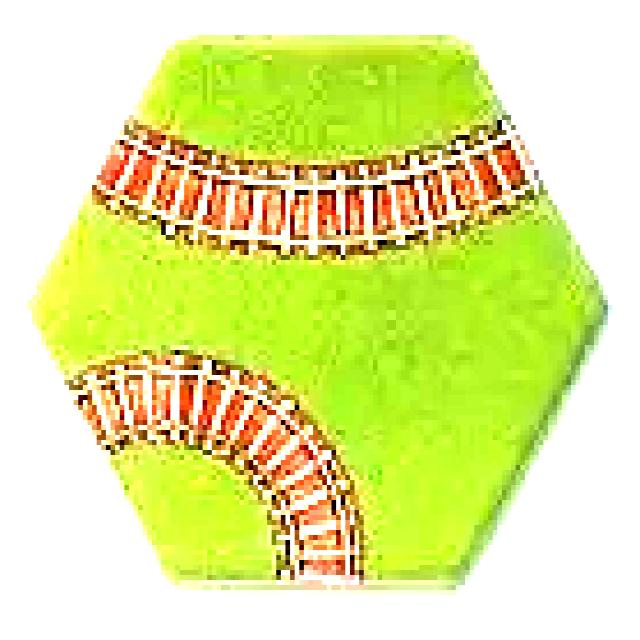5_0: (21, 32, 608, 591)
